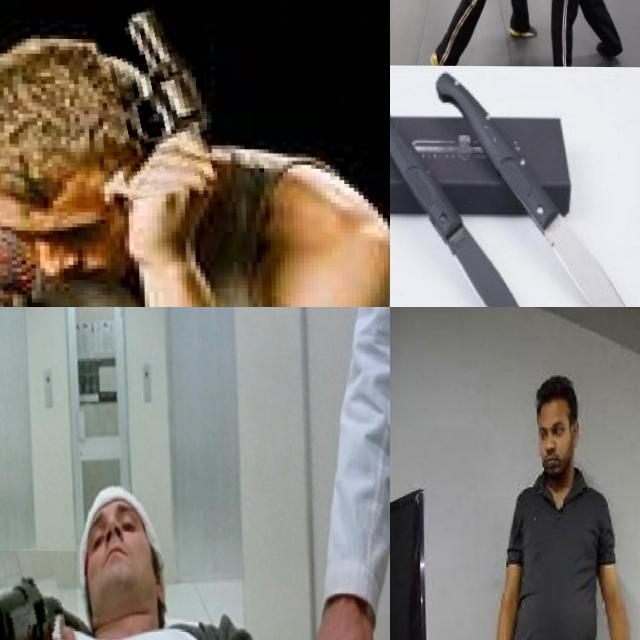-: (542, 208, 640, 307), (444, 224, 553, 307), (527, 0, 554, 17)
gun-knife-thesis - v11 Yolov5 augmented: (96, 0, 206, 197), (0, 549, 78, 640)
